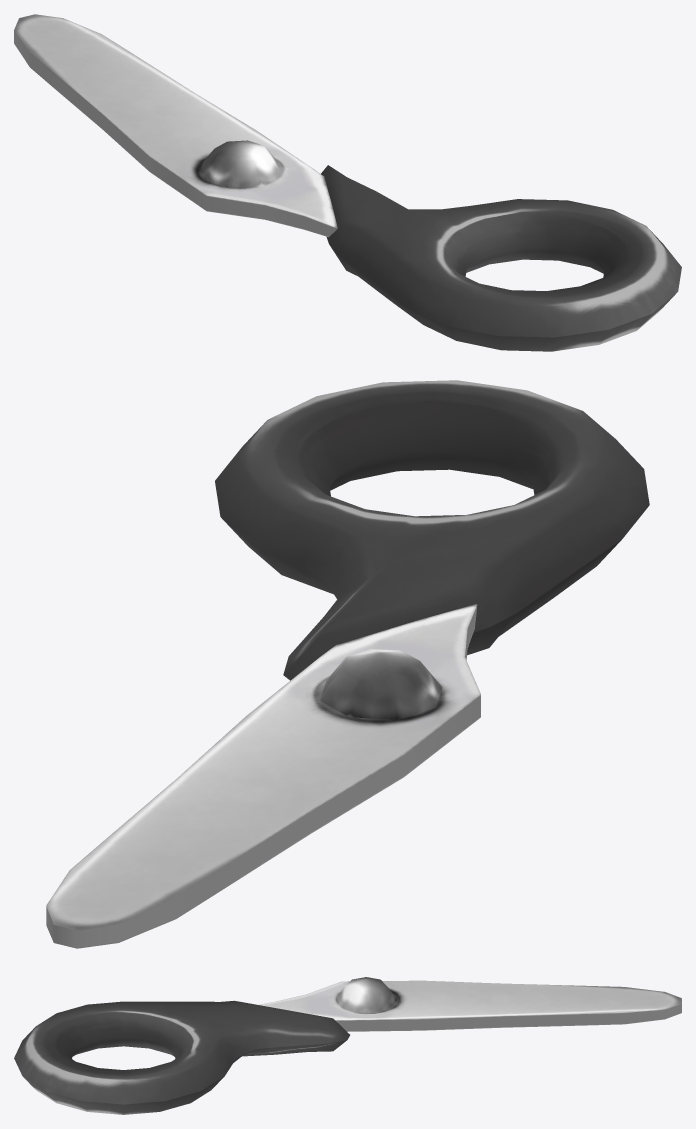
Rendered from Scissor_01.glb.
The picture shows the model from 3 angles, top to bottom: view 1: azimuth 30°, elevation 25°; view 2: azimuth 150°, elevation 25°; view 3: azimuth 270°, elevation 25°; orthographic projection. The views are drawn at different scales.
Visible parts, largest first — view 1: Scissor_01; view 2: Scissor_01; view 3: Scissor_01.
Boxes of the visible parts, bbox=[...] form: Scissor_01: bbox=[14, 14, 681, 351]; Scissor_01: bbox=[46, 380, 649, 948]; Scissor_01: bbox=[14, 977, 681, 1114].
Size of the model in its own units: 0.9747 by 0.1962 by 2.45.
2 materials, 2 textured.
